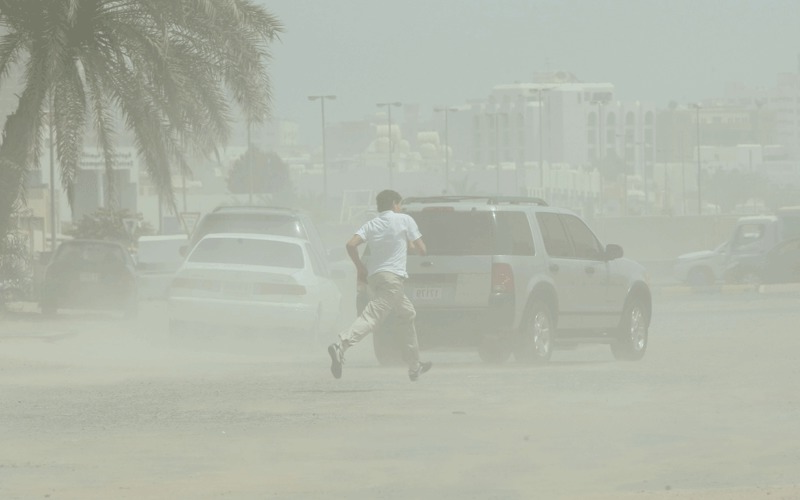car: (328, 196, 651, 361), (169, 231, 339, 344), (176, 194, 329, 275), (36, 237, 138, 317), (678, 229, 735, 288)
person: (325, 188, 431, 380)
truck: (729, 202, 798, 285)
